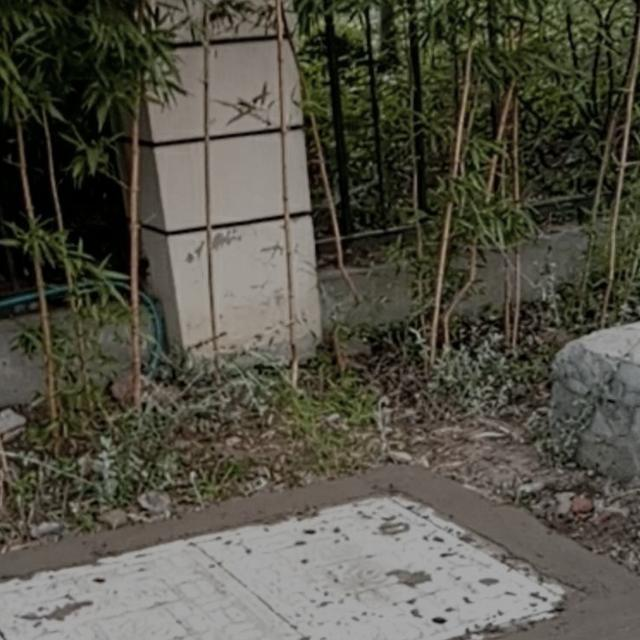good: (0, 489, 591, 640)
